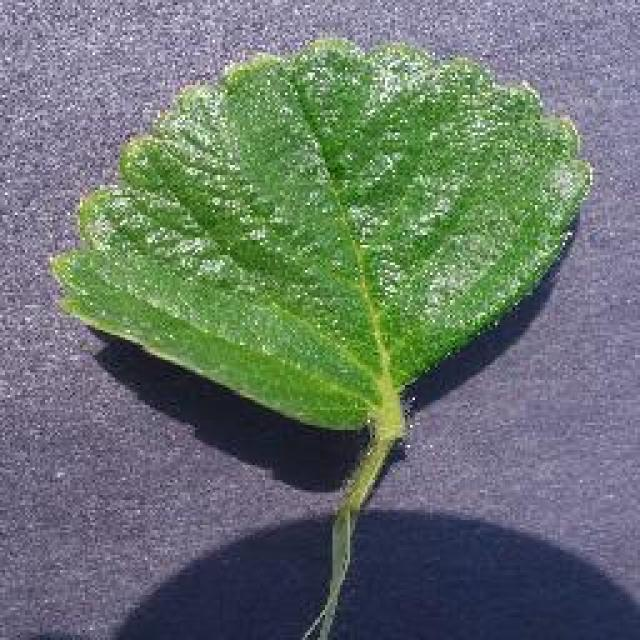Strawberry___healthy: (75, 9, 574, 439)
